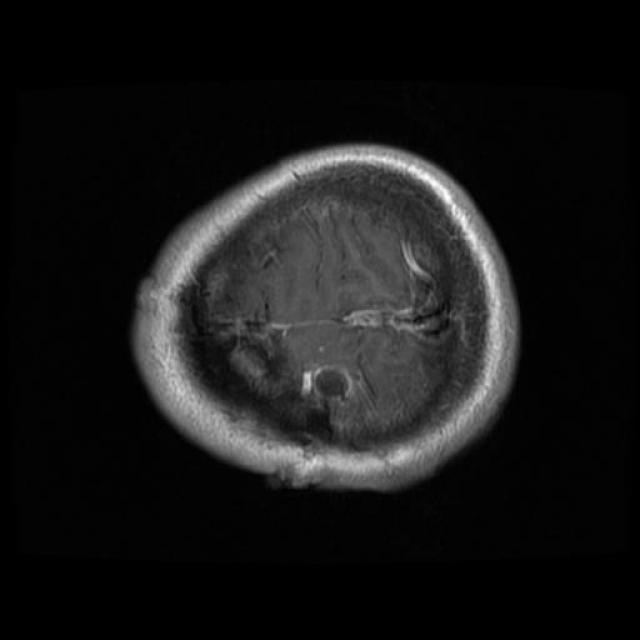Glioma: (198, 319, 349, 438)
